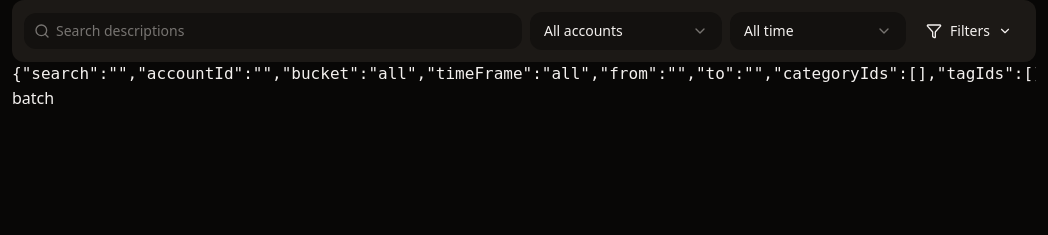
Test: SearchSurface › reveals the four-column panel from the Filters button
What coordinates should you click on to do the following:
click the button with test id "filters-toggle"
I would click on:
 (969, 31)
Its box is [914, 13, 1024, 49].
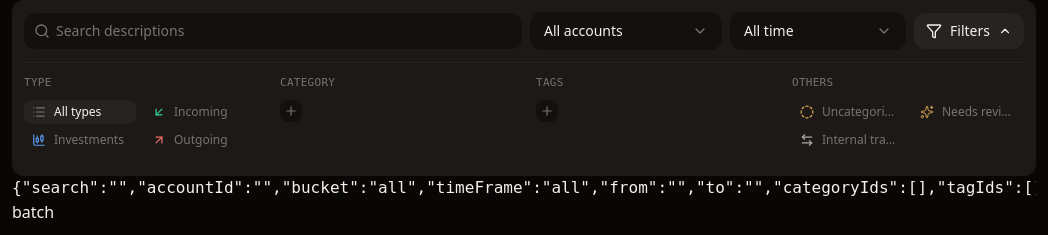
Check: the element with test id "filter-panel" is shown, box [24, 63, 1024, 164]
Check: the element with test id "column-type" is shown, box [24, 75, 256, 152]
Check: the element with test id "column-categories" is shown, box [280, 76, 335, 122]
